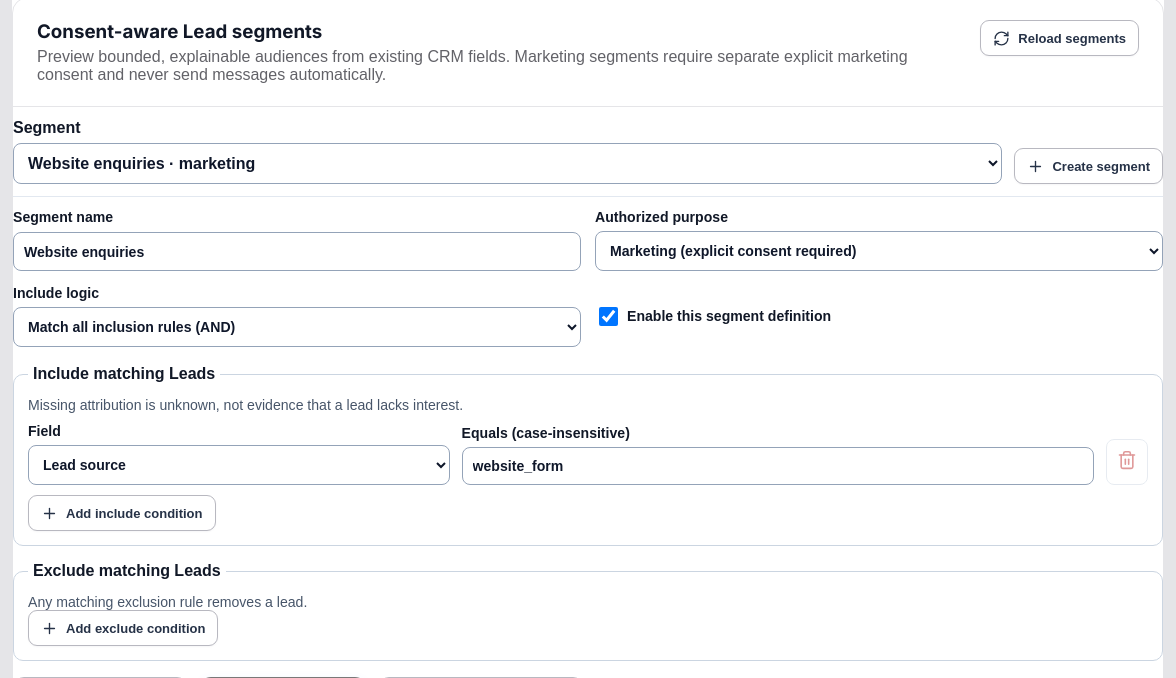
CRM segment editor › does not preview unsaved edits until policy is committed
Step 1. Replace the text in the field labelled "Segment name" with "Draft audience" → {"x": 297, "y": 252}, box [13,232,581,271]
(page scrolled)
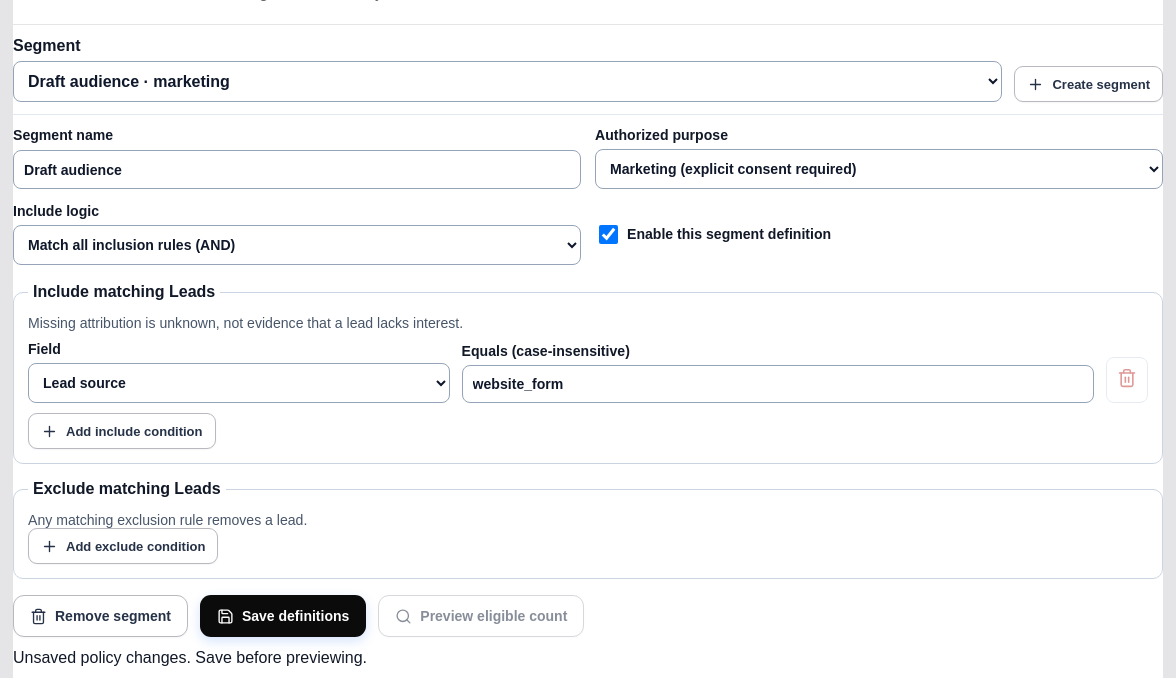
Expected: the button "Preview eligible count" is disabled, [378,595,584,637]
